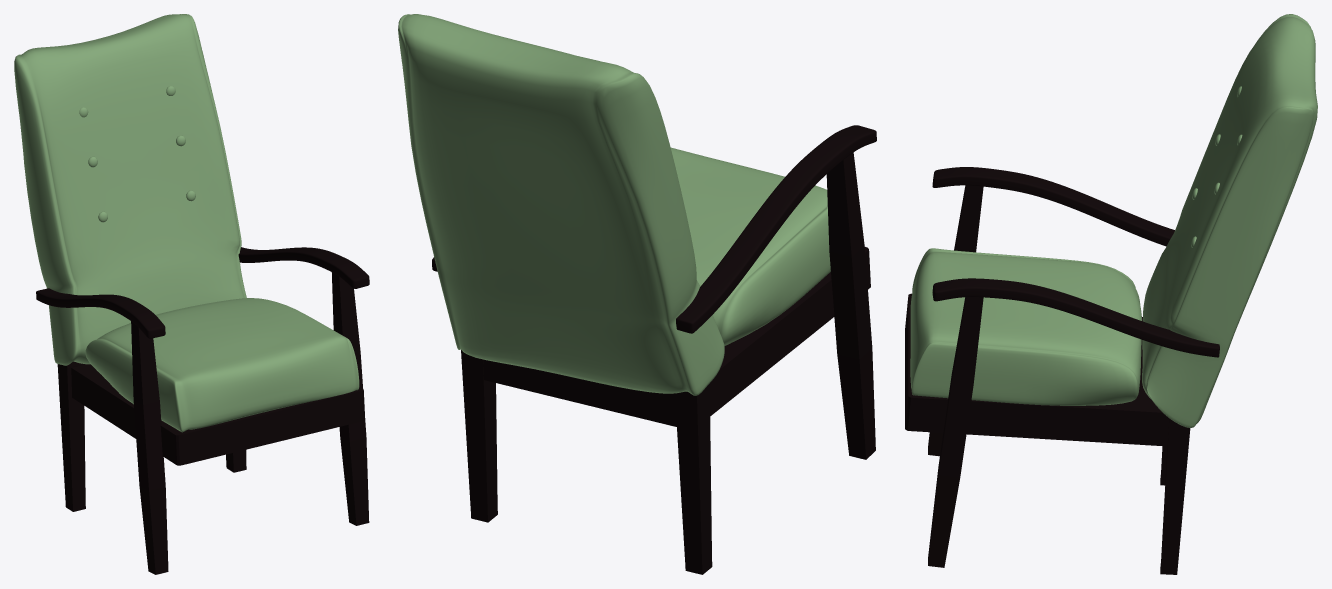
File: chair.dae
3 renders of one model, left to right at view 1: azimuth 30°, elevation 25°; view 2: azimuth 150°, elevation 25°; view 3: azimuth 270°, elevation 25°, orthographic. The views are drawn at different scales.
Parts seen in each view (by area): view 1: chair; view 2: chair; view 3: chair.
Boxes of the visible parts, x1,y1,x2,y2 form: chair: (14, 14, 369, 574); chair: (398, 14, 876, 574); chair: (905, 14, 1317, 574).
Bounding box in the file's own units: 0.7529 × 1.34 × 1.07.
